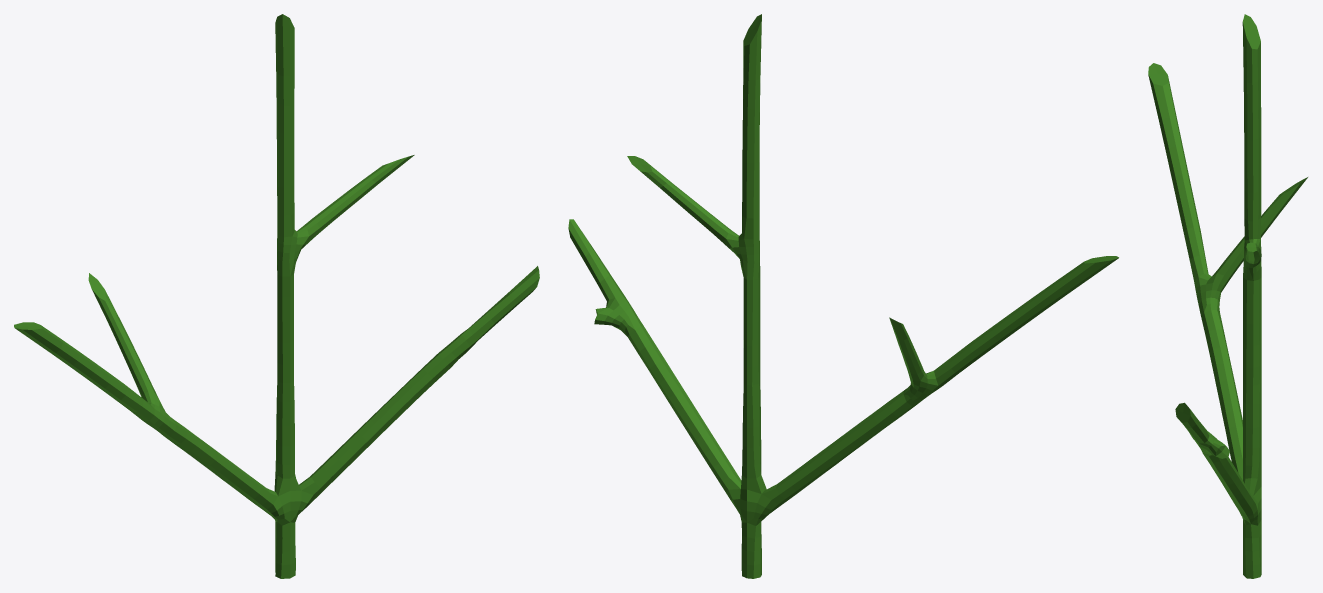
Rendered from testBranchOC.fbx.
The picture shows the model from 3 angles, left to right: view 1: azimuth 30°, elevation 25°; view 2: azimuth 150°, elevation 25°; view 3: azimuth 270°, elevation 25°; orthographic projection.
Visible parts, largest first — view 1: Object; view 2: Object; view 3: Object.
Part boxes in pixels (box(x1,y1,x2,y2)): Object: box(14, 14, 539, 578); Object: box(568, 14, 1118, 578); Object: box(1148, 14, 1307, 578).
Bounding box in the file's own units: 2868 × 2871 × 750.
